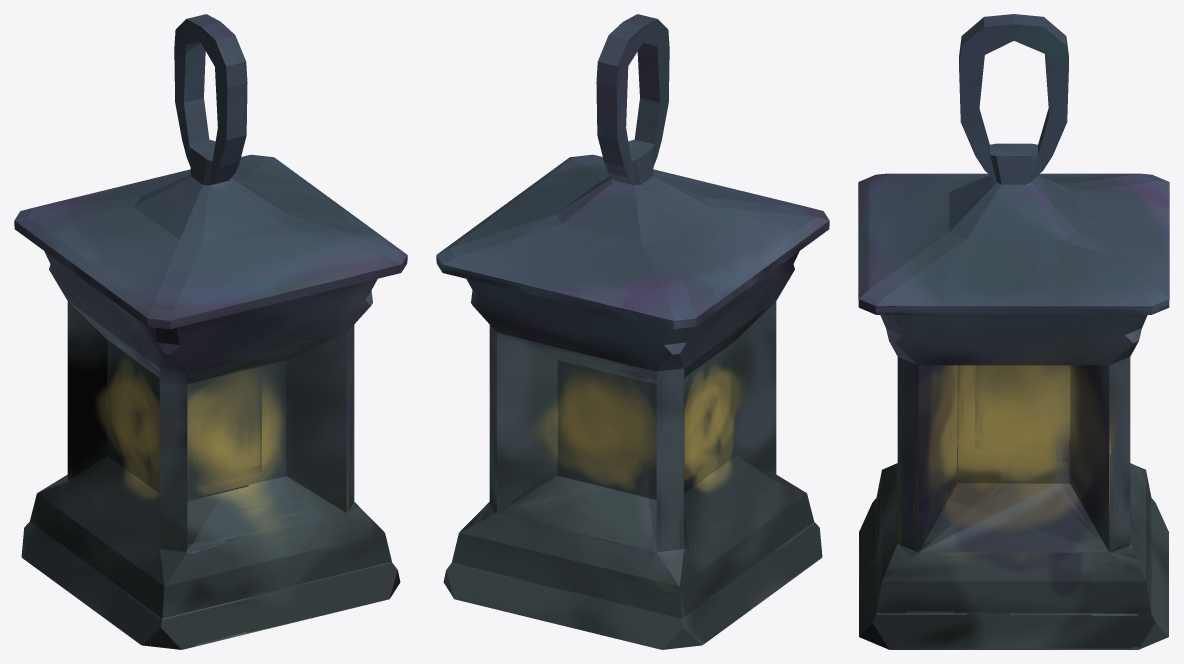
The model's file is lantern.fbx.
The picture shows the model from 3 angles, left to right: view 1: azimuth 30°, elevation 25°; view 2: azimuth 150°, elevation 25°; view 3: azimuth 270°, elevation 25°; orthographic projection. The views are drawn at different scales.
Visible parts, largest first — view 1: Cube; view 2: Cube; view 3: Cube.
Part boxes in pixels (box(x1,y1,x2,y2)): Cube: box(14, 14, 407, 649); Cube: box(436, 14, 829, 649); Cube: box(858, 14, 1169, 649).
Size of the model in its own units: 226 by 464 by 226.
1 material, 1 textured.
